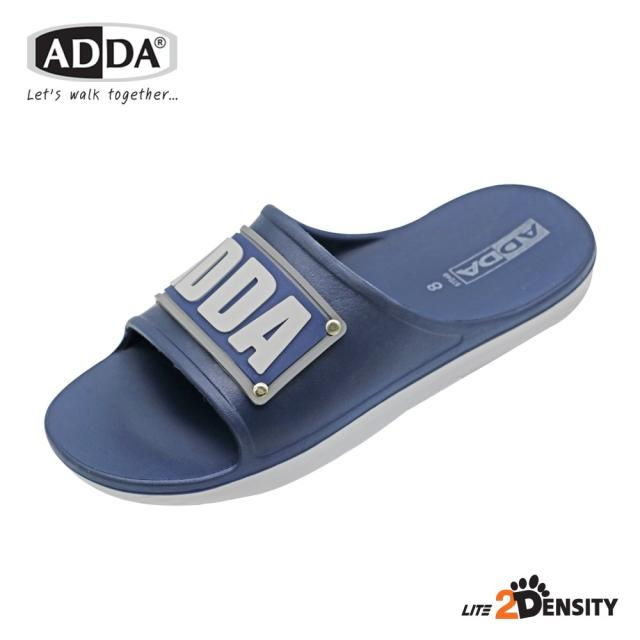shoe: (43, 188, 599, 512)
